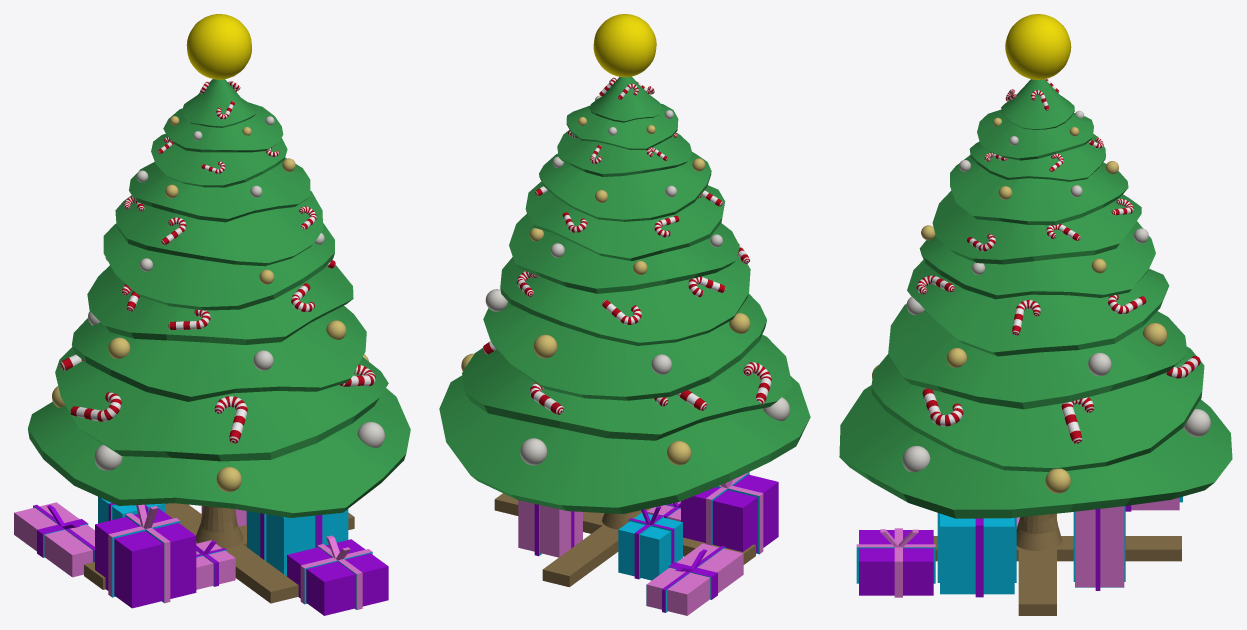
The model's file is christmasTree.fbx.
3 views of the same model, side by side, from view 1: azimuth 30°, elevation 25°; view 2: azimuth 150°, elevation 25°; view 3: azimuth 270°, elevation 25° (orthographic). The views are drawn at different scales.
Parts seen in each view (by area): view 1: christmasTreeLayer, christmasTreeLayer2, christmasTreeLayer3, christmasTreeLayer4, christmasTreeLayer5, christmasTreeLayer6, present1, christmasTreeLayer7, present4, present5, christmasTreeLayer8, present8 (+11 smaller); view 2: christmasTreeLayer, christmasTreeLayer3, christmasTreeLayer2, christmasTreeLayer4, christmasTreeLayer5, christmasTreeLayer6, christmasTreeLayer7, present1, present5, base2, present9, christmasTreeLayer8 (+6 smaller); view 3: christmasTreeLayer, christmasTreeLayer2, christmasTreeLayer3, christmasTreeLayer4, christmasTreeLayer5, christmasTreeLayer6, christmasTreeLayer7, present8, present4, base2, present7, christmasTreeLayer10 (+9 smaller).
Part boxes in pixels (x1=…): christmasTreeLayer: x1=28, y1=388, x2=410, y2=517; christmasTreeLayer2: x1=55, y1=347, x2=388, y2=461; christmasTreeLayer3: x1=72, y1=305, x2=366, y2=401; christmasTreeLayer4: x1=87, y1=265, x2=353, y2=344; christmasTreeLayer5: x1=103, y1=223, x2=334, y2=310; christmasTreeLayer6: x1=115, y1=191, x2=322, y2=266; present1: x1=95, y1=504, x2=196, y2=608; christmasTreeLayer7: x1=129, y1=157, x2=310, y2=222; present4: x1=287, y1=535, x2=388, y2=615; present5: x1=14, y1=502, x2=94, y2=577; christmasTreeLayer8: x1=151, y1=134, x2=287, y2=187; present8: x1=247, y1=509, x2=348, y2=576; christmasTreeLayer: x1=439, y1=375, x2=810, y2=513; christmasTreeLayer3: x1=483, y1=294, x2=766, y2=400; christmasTreeLayer2: x1=462, y1=335, x2=792, y2=440; christmasTreeLayer4: x1=500, y1=255, x2=750, y2=345; christmasTreeLayer5: x1=509, y1=214, x2=739, y2=293; christmasTreeLayer6: x1=525, y1=181, x2=725, y2=261; christmasTreeLayer7: x1=539, y1=152, x2=711, y2=221; present1: x1=681, y1=472, x2=778, y2=554; present5: x1=646, y1=543, x2=743, y2=615; base2: x1=494, y1=493, x2=755, y2=587; present9: x1=618, y1=506, x2=682, y2=580; christmasTreeLayer8: x1=557, y1=130, x2=692, y2=176; christmasTreeLayer: x1=839, y1=385, x2=1232, y2=518; christmasTreeLayer2: x1=871, y1=347, x2=1204, y2=471; christmasTreeLayer3: x1=888, y1=304, x2=1187, y2=409; christmasTreeLayer4: x1=907, y1=260, x2=1169, y2=356; christmasTreeLayer5: x1=919, y1=221, x2=1155, y2=299; christmasTreeLayer6: x1=932, y1=190, x2=1141, y2=264; christmasTreeLayer7: x1=950, y1=155, x2=1128, y2=225; present8: x1=937, y1=513, x2=1016, y2=597; present4: x1=856, y1=528, x2=935, y2=597; base2: x1=933, y1=513, x2=1181, y2=615; present7: x1=1073, y1=506, x2=1125, y2=590; christmasTreeLayer10: x1=977, y1=109, x2=1093, y2=160.
Size of the model in its own units: 5.58 by 8.74 by 5.76.
